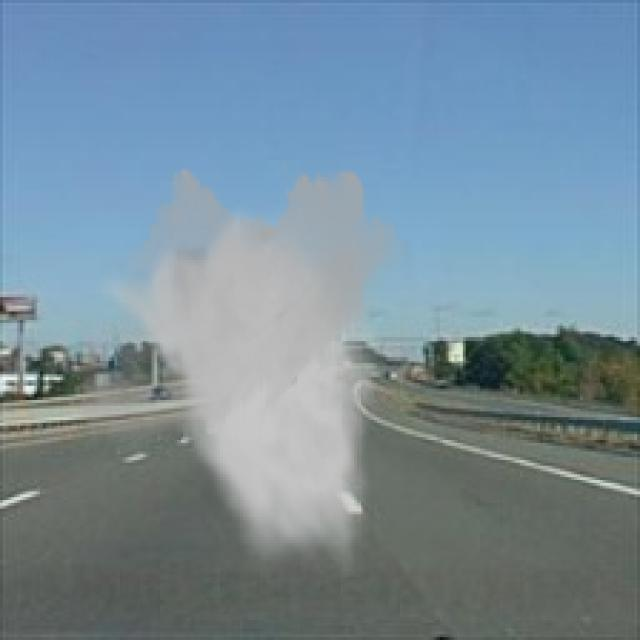smoke: (66, 157, 408, 577)
